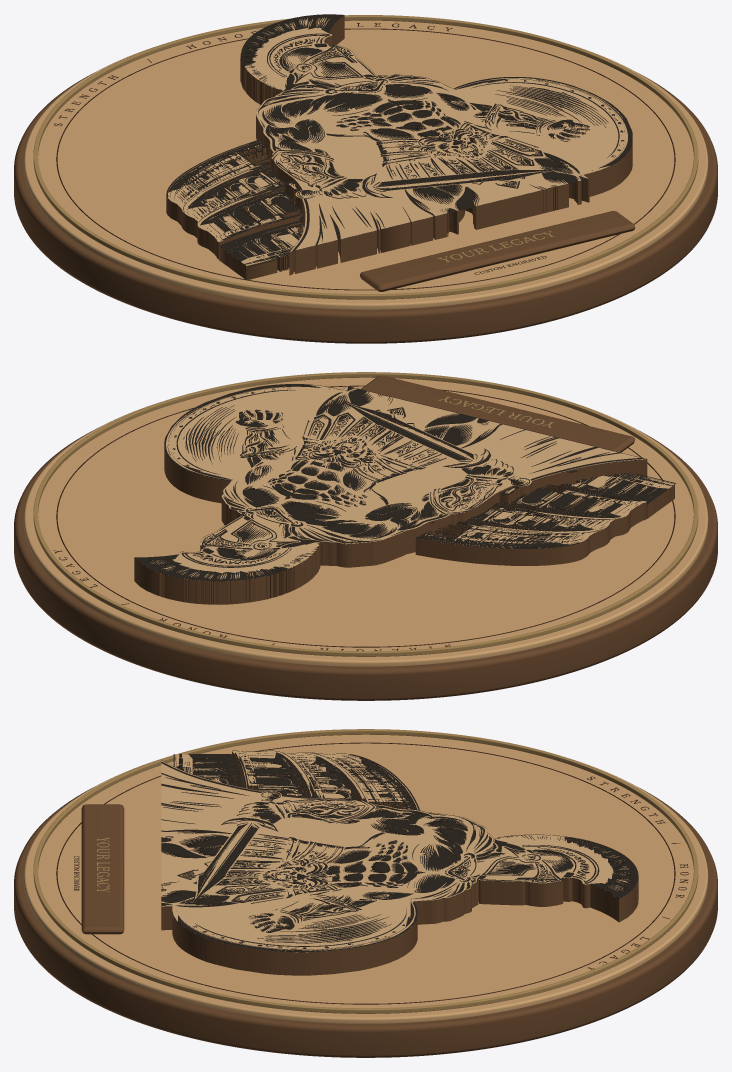
The model's file is plaque.glb.
The picture shows the model from 3 angles, top to bottom: view 1: azimuth 30°, elevation 25°; view 2: azimuth 150°, elevation 25°; view 3: azimuth 270°, elevation 25°; orthographic projection.
Visible parts, largest first — view 1: Surface 02 | Maple face and engraved border, Surface 06 | Warrior and shield relief, Surface 01 | Walnut foundation, Surface 05 | Colosseum upper tiers, Surface 03 | Solid brass inlay ring, Surface 07 | Personalized nameplate, Surface 04 | Colosseum lower tier; view 2: Surface 02 | Maple face and engraved border, Surface 06 | Warrior and shield relief, Surface 01 | Walnut foundation, Surface 05 | Colosseum upper tiers, Surface 03 | Solid brass inlay ring, Surface 07 | Personalized nameplate, Surface 04 | Colosseum lower tier; view 3: Surface 02 | Maple face and engraved border, Surface 06 | Warrior and shield relief, Surface 01 | Walnut foundation, Surface 03 | Solid brass inlay ring, Surface 05 | Colosseum upper tiers, Surface 07 | Personalized nameplate, Surface 04 | Colosseum lower tier.
Boxes of the visible parts, left/top/right/bottom form: Surface 02 | Maple face and engraved border: left=23, top=20, right=708, bottom=309; Surface 06 | Warrior and shield relief: left=240, top=14, right=632, bottom=275; Surface 01 | Walnut foundation: left=14, top=72, right=717, bottom=343; Surface 05 | Colosseum upper tiers: left=166, top=139, right=302, bottom=259; Surface 03 | Solid brass inlay ring: left=33, top=15, right=698, bottom=299; Surface 07 | Personalized nameplate: left=360, top=211, right=635, bottom=291; Surface 04 | Colosseum lower tier: left=219, top=220, right=303, bottom=280; Surface 02 | Maple face and engraved border: left=23, top=377, right=708, bottom=666; Surface 06 | Warrior and shield relief: left=134, top=384, right=647, bottom=604; Surface 01 | Walnut foundation: left=14, top=428, right=717, bottom=700; Surface 05 | Colosseum upper tiers: left=415, top=484, right=647, bottom=565; Surface 03 | Solid brass inlay ring: left=33, top=372, right=698, bottom=656; Surface 07 | Personalized nameplate: left=361, top=375, right=634, bottom=452; Surface 04 | Colosseum lower tier: left=557, top=473, right=675, bottom=518; Surface 02 | Maple face and engraved border: left=23, top=734, right=708, bottom=1023; Surface 06 | Warrior and shield relief: left=161, top=760, right=638, bottom=975; Surface 01 | Walnut foundation: left=14, top=787, right=717, bottom=1057; Surface 03 | Solid brass inlay ring: left=33, top=729, right=698, bottom=1013; Surface 05 | Colosseum upper tiers: left=232, top=750, right=419, bottom=810; Surface 07 | Personalized nameplate: left=81, top=804, right=124, bottom=934; Surface 04 | Colosseum lower tier: left=173, top=754, right=242, bottom=787.
Size of the model in its own units: 3.6 by 0.3589 by 3.6.
